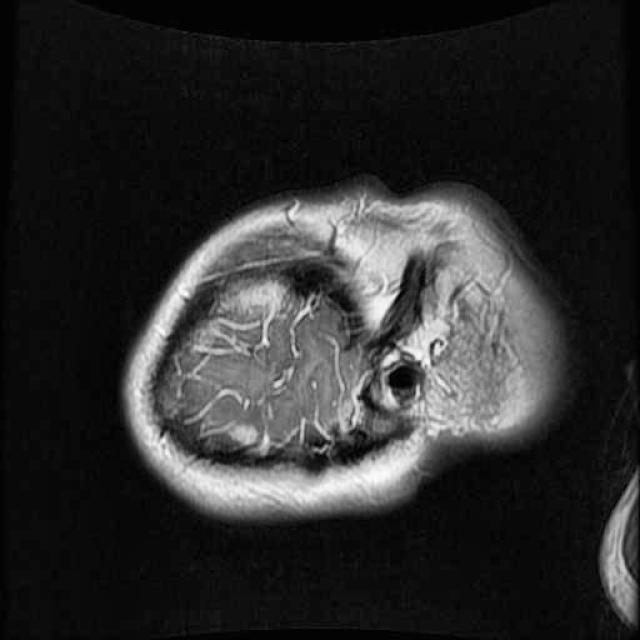Non-Tumor: (218, 410, 270, 460)
